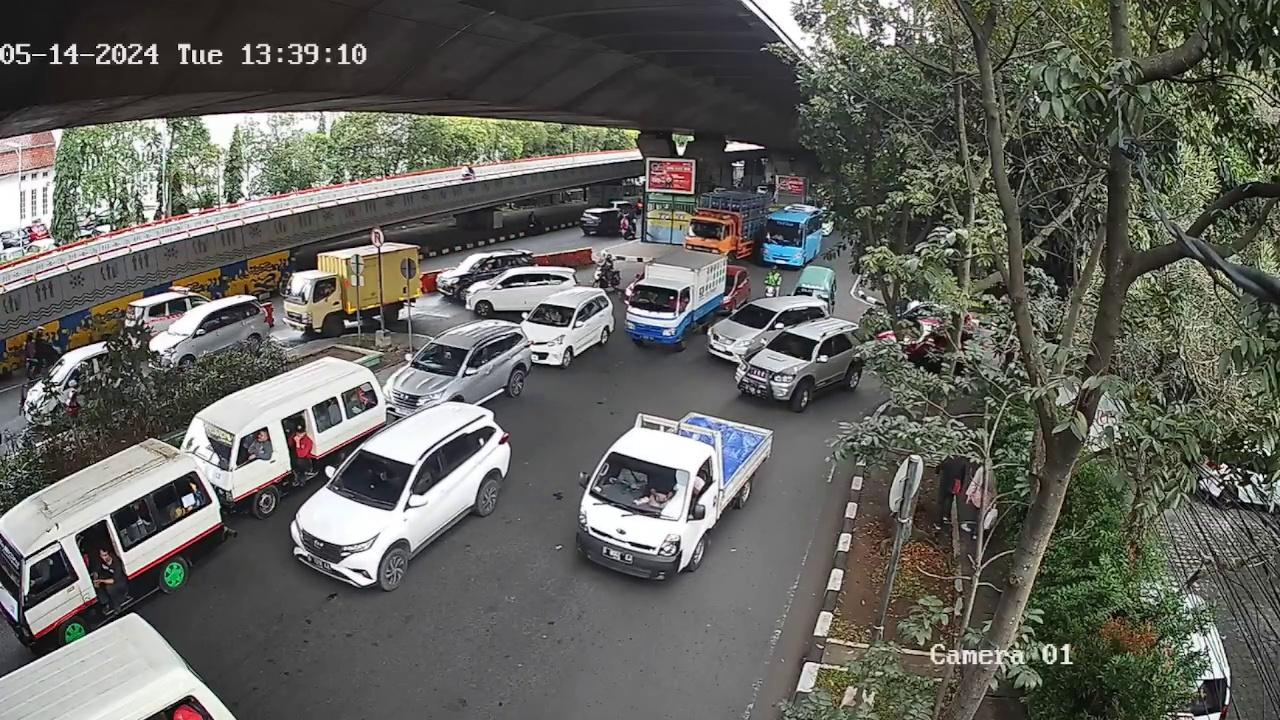pakai: (615, 462, 647, 491)
windshield: (590, 448, 690, 517), (333, 450, 410, 505), (181, 418, 237, 476), (411, 343, 470, 372), (626, 284, 681, 314), (727, 299, 778, 327), (768, 332, 817, 361), (533, 304, 577, 323)
